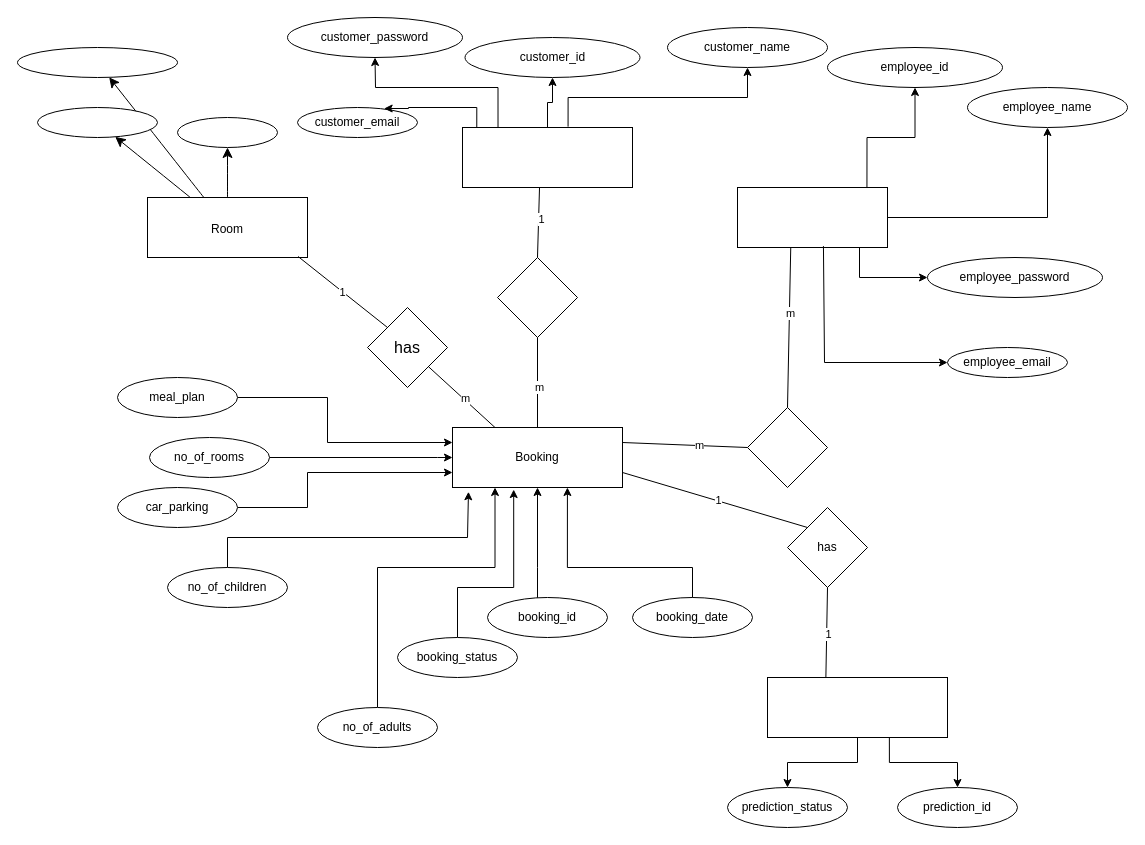
Some shapes in this 1145 by 845 pixel diagram are drawn without their labels. Here are the shapes that lost their labels. From the top down, the centre of each, then its label:
At (x=97, y=62): "room_description".
At (x=97, y=122): "room_type".
At (x=227, y=132): "room_id".
At (x=547, y=157): "Customer".
At (x=812, y=217): "Employee".
At (x=537, y=297): "makes".
At (x=787, y=447): "views".
At (x=857, y=707): "Booking Prediction".
